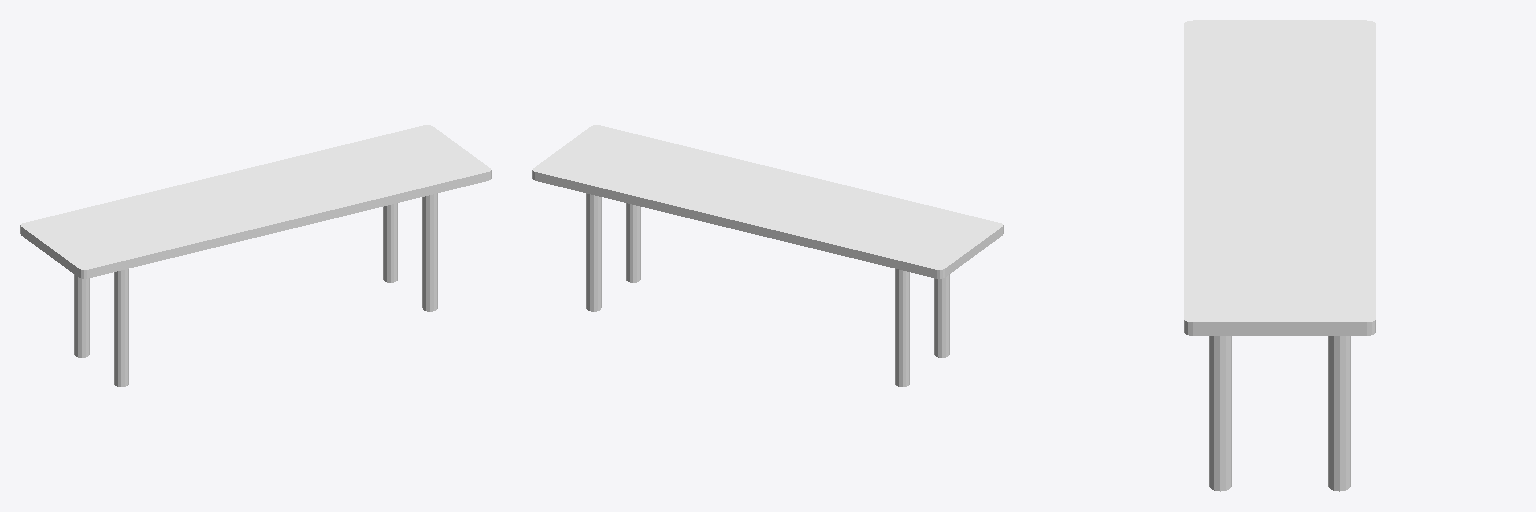
URDF robot description (Officedesk_D):
<?xml version="1.0" encoding="utf-8"?>
<!-- This URDF was automatically created by SolidWorks to URDF Exporter! Originally created by [author] ([email redacted]) 
     Commit Version: 1.5.1-0-g916b5db  Build Version: 1.5.7152.31018
     For more information, please see http://wiki.ros.org/sw_urdf_exporter -->
<robot
  name="Officedesk_D">
  <link
    name="Officedesk_D">
    <inertial>
      <origin
        xyz="-1.86E-17 -8.2791E-17 0.66745"
        rpy="0 0 0" />
      <mass
        value="91.412" />
      <inertia
        ixx="5.5021"
        ixy="-2.9138E-15"
        ixz="-1.1263E-16"
        iyy="50.739"
        iyz="-1.8553E-16"
        izz="51.731" />
    </inertial>
    <visual>
      <origin
        xyz="0 0 0"
        rpy="0 0 0" />
      <geometry>
        <mesh
          filename="package://Officedesk_D/meshes/Officedesk_D.STL" />
      </geometry>
      <material
        name="">
        <color
          rgba="1 1 1 1" />
        <texture
          filename="package://Officedesk_D/textures/" />
      </material>
    </visual>
    <collision>
      <origin
        xyz="0 0 0"
        rpy="0 0 0" />
      <geometry>
        <mesh
          filename="package://Officedesk_D/meshes/Officedesk_D.STL" />
      </geometry>
    </collision>
  </link>
</robot>

--- Facts derived from the render (not from the file) ---
3 views of the same robot in one strip: view 1: azimuth 30°, elevation 25°; view 2: azimuth 150°, elevation 25°; view 3: azimuth 270°, elevation 25° (orthographic).
Model Officedesk_D with 1 links and 0 joints (none), rooted at Officedesk_D, posed all joints at 0.
Links seen in each view (by area): view 1: Officedesk_D; view 2: Officedesk_D; view 3: Officedesk_D.
Link boxes in pixels (x1=…): Officedesk_D: x1=20, y1=125, x2=491, y2=386; Officedesk_D: x1=532, y1=125, x2=1003, y2=386; Officedesk_D: x1=1184, y1=20, x2=1375, y2=491.
Size in the robot's own frame: 2.4 by 0.645 by 0.75 metres.
Meshes: 1 distinct files referenced, 1 mesh visuals loaded (1 binary STL).